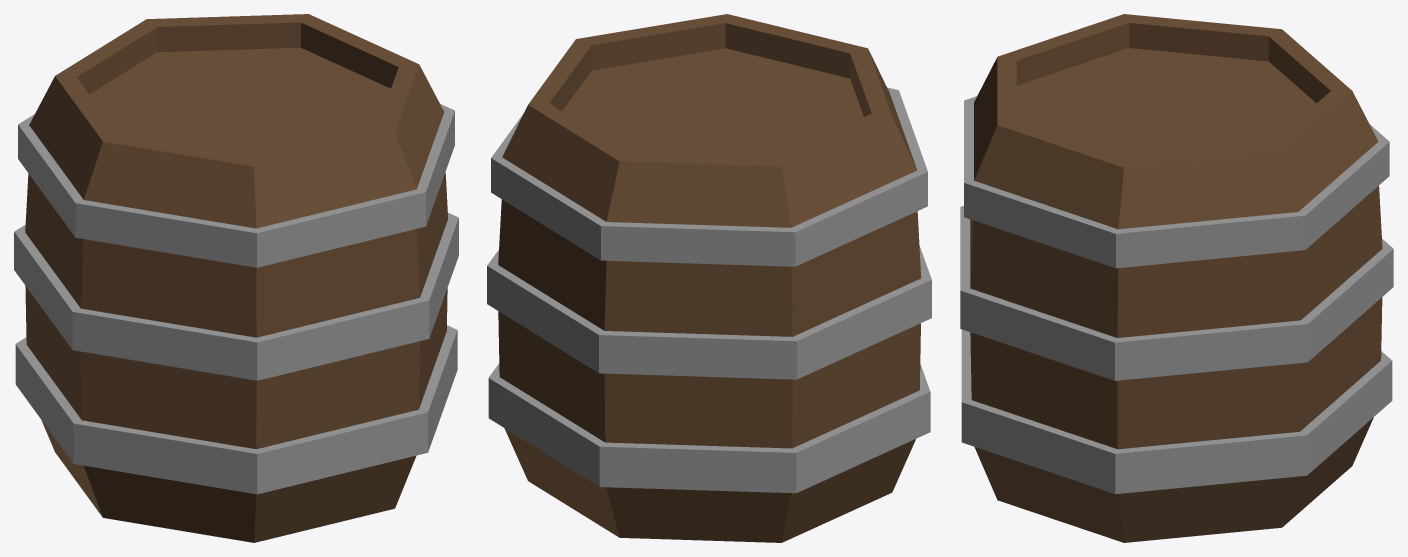
File: barrel_2.fbx
3 views of the same model, side by side, from view 1: azimuth 30°, elevation 25°; view 2: azimuth 150°, elevation 25°; view 3: azimuth 270°, elevation 25° (orthographic).
Visible parts, largest first — view 1: Cylinder.001; view 2: Cylinder.001; view 3: Cylinder.001.
Boxes of the visible parts, x1,y1,x2,y2 form: Cylinder.001: [14, 14, 458, 542]; Cylinder.001: [487, 14, 931, 542]; Cylinder.001: [960, 14, 1393, 542].
Bounding box in the file's own units: 89.08 × 82.94 × 86.85.
